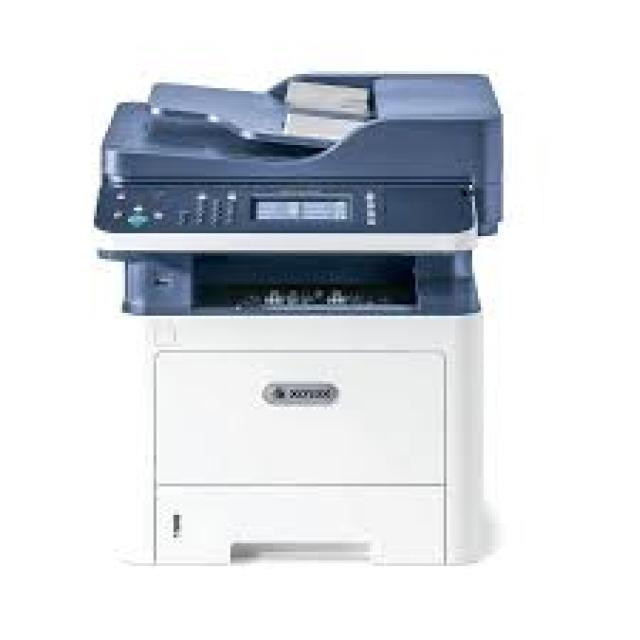printer: (89, 63, 511, 590)
